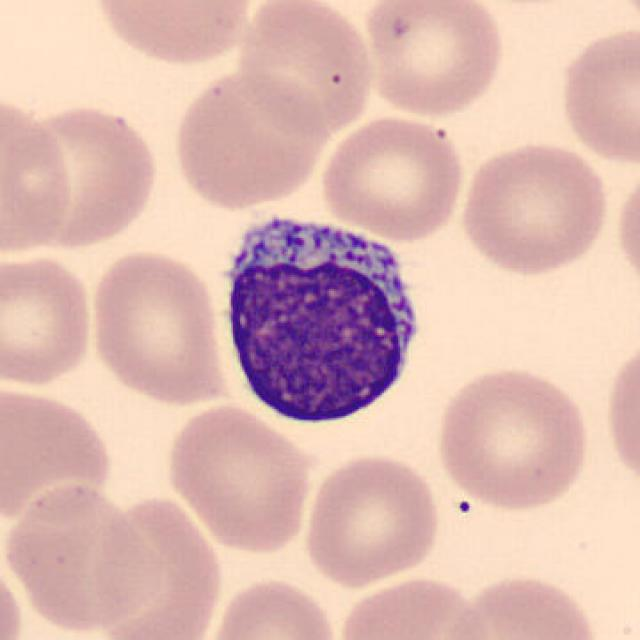Lymphocyte: (212, 201, 430, 434)
RBC: (430, 361, 594, 515), (0, 481, 160, 635), (85, 243, 233, 409), (9, 97, 162, 256), (162, 400, 316, 556), (169, 67, 329, 212), (455, 137, 612, 277), (298, 449, 444, 589), (89, 490, 227, 638), (316, 111, 468, 242), (236, 0, 378, 136), (358, 0, 508, 120), (0, 379, 117, 530), (0, 250, 98, 392), (554, 21, 640, 167), (0, 93, 76, 257), (87, 0, 260, 69), (448, 569, 604, 640), (332, 573, 492, 640), (203, 573, 343, 640), (601, 333, 640, 497), (611, 164, 640, 296), (0, 555, 27, 640)
